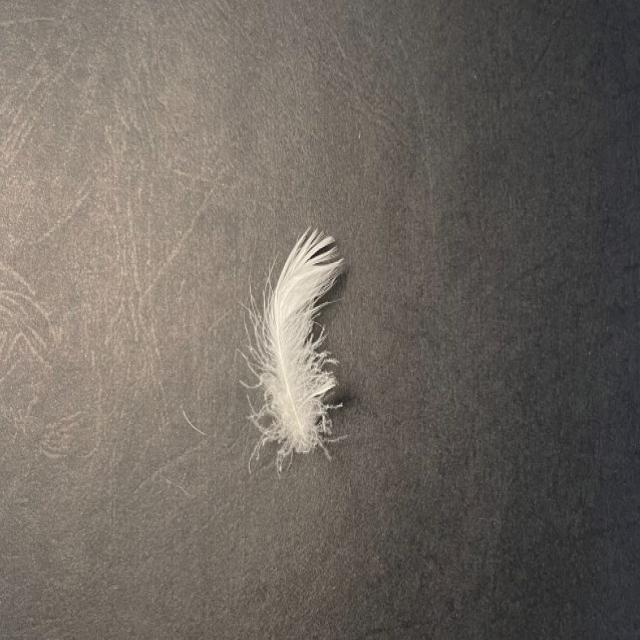feather: (238, 219, 358, 484)
